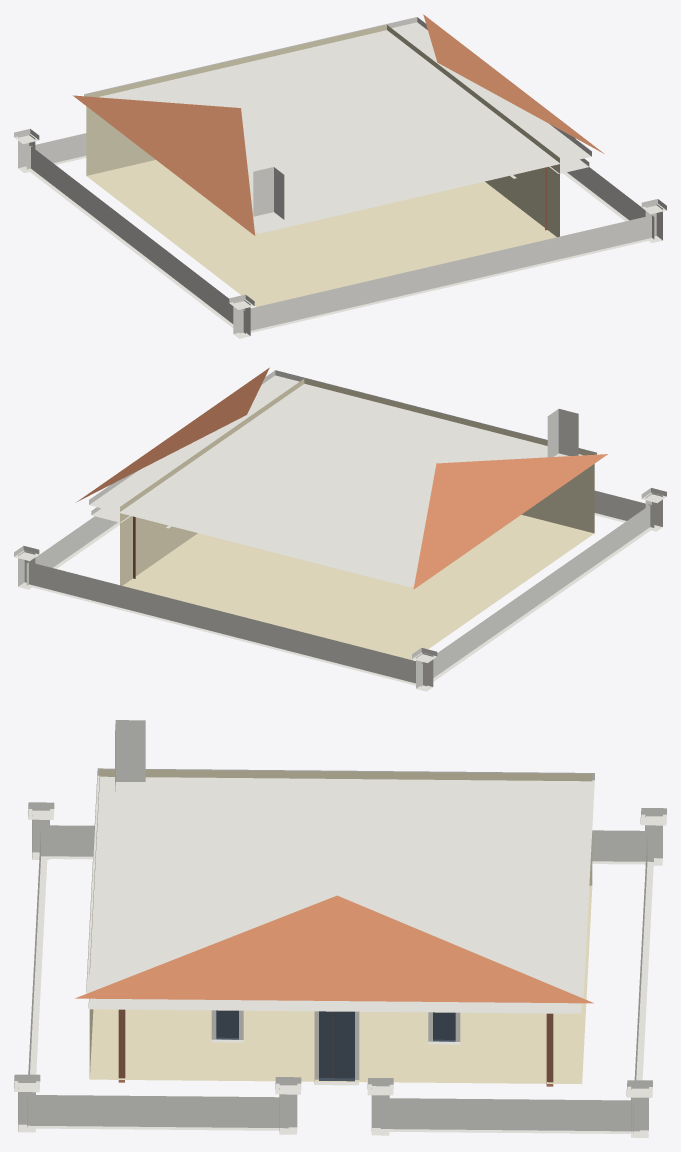
Rendered from cunucu_sabana.glb.
The picture shows the model from 3 angles, top to bottom: view 1: azimuth 30°, elevation 25°; view 2: azimuth 150°, elevation 25°; view 3: azimuth 270°, elevation 25°; orthographic projection. The views are drawn at different scales.
Parts seen in each view (by area): view 1: cunucu_sabana_lod0; view 2: cunucu_sabana_lod0; view 3: cunucu_sabana_lod0.
Part boxes in pixels (box(x1,y1,x2,y2)): cunucu_sabana_lod0: box(14, 14, 666, 338); cunucu_sabana_lod0: box(14, 367, 666, 691); cunucu_sabana_lod0: box(14, 720, 666, 1137).
Size of what is drawn, in the model's own units: 17.04 by 4.65 by 16.27.
